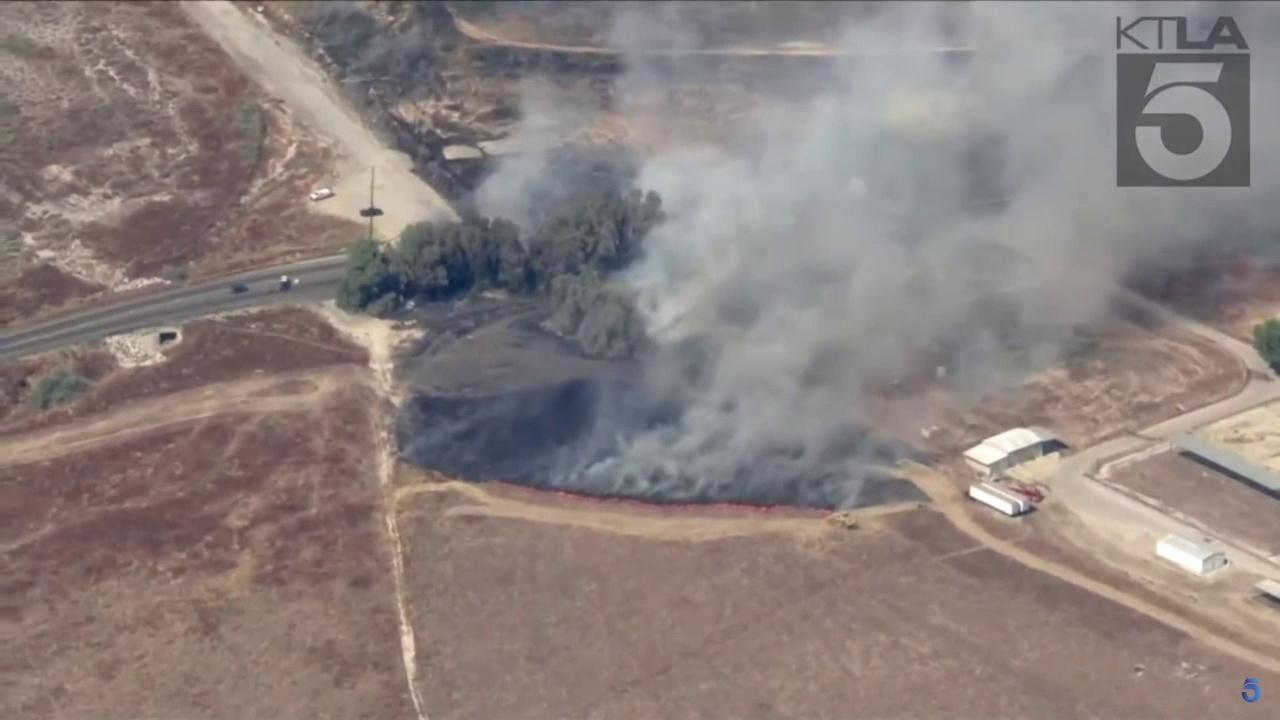fire: (493, 479, 831, 517)
smoke: (453, 0, 1275, 509)
